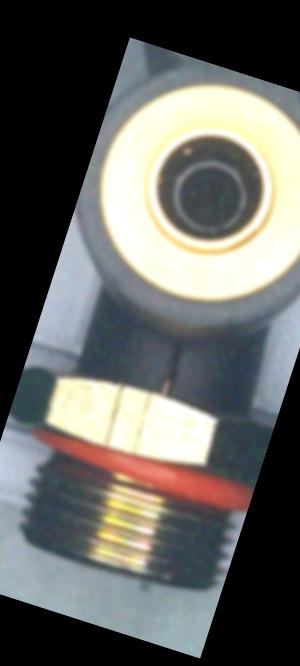craze: (150, 336, 194, 402)
